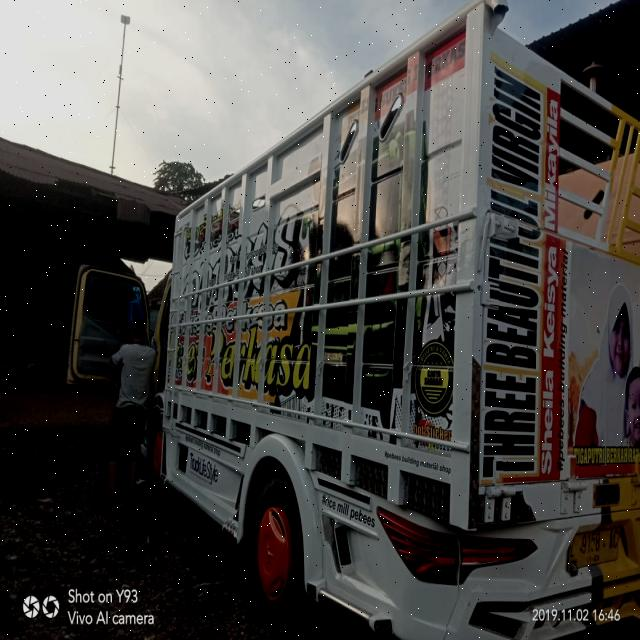truck: (66, 3, 640, 639)
